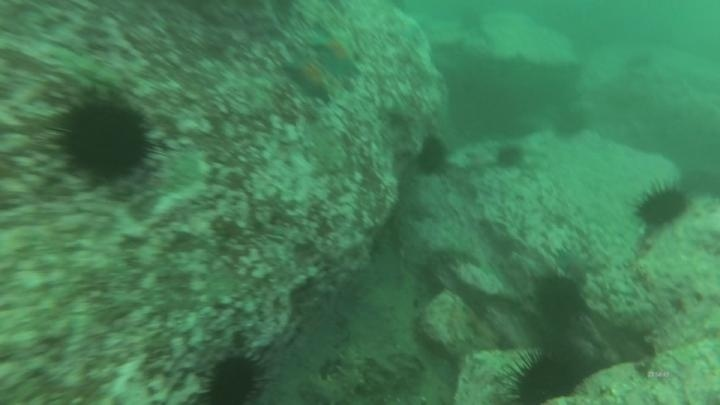echinus: (52, 91, 159, 187), (503, 348, 585, 404), (199, 350, 270, 405), (531, 272, 586, 328), (632, 180, 692, 231), (414, 133, 451, 178), (549, 104, 590, 142), (492, 142, 527, 172)
holothurian: (302, 342, 371, 405)
starfish: (308, 25, 362, 80), (281, 51, 335, 102), (552, 244, 595, 288), (387, 10, 425, 44)
